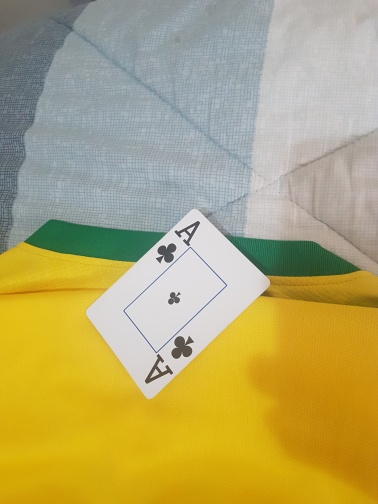ace: (86, 210, 269, 396)
